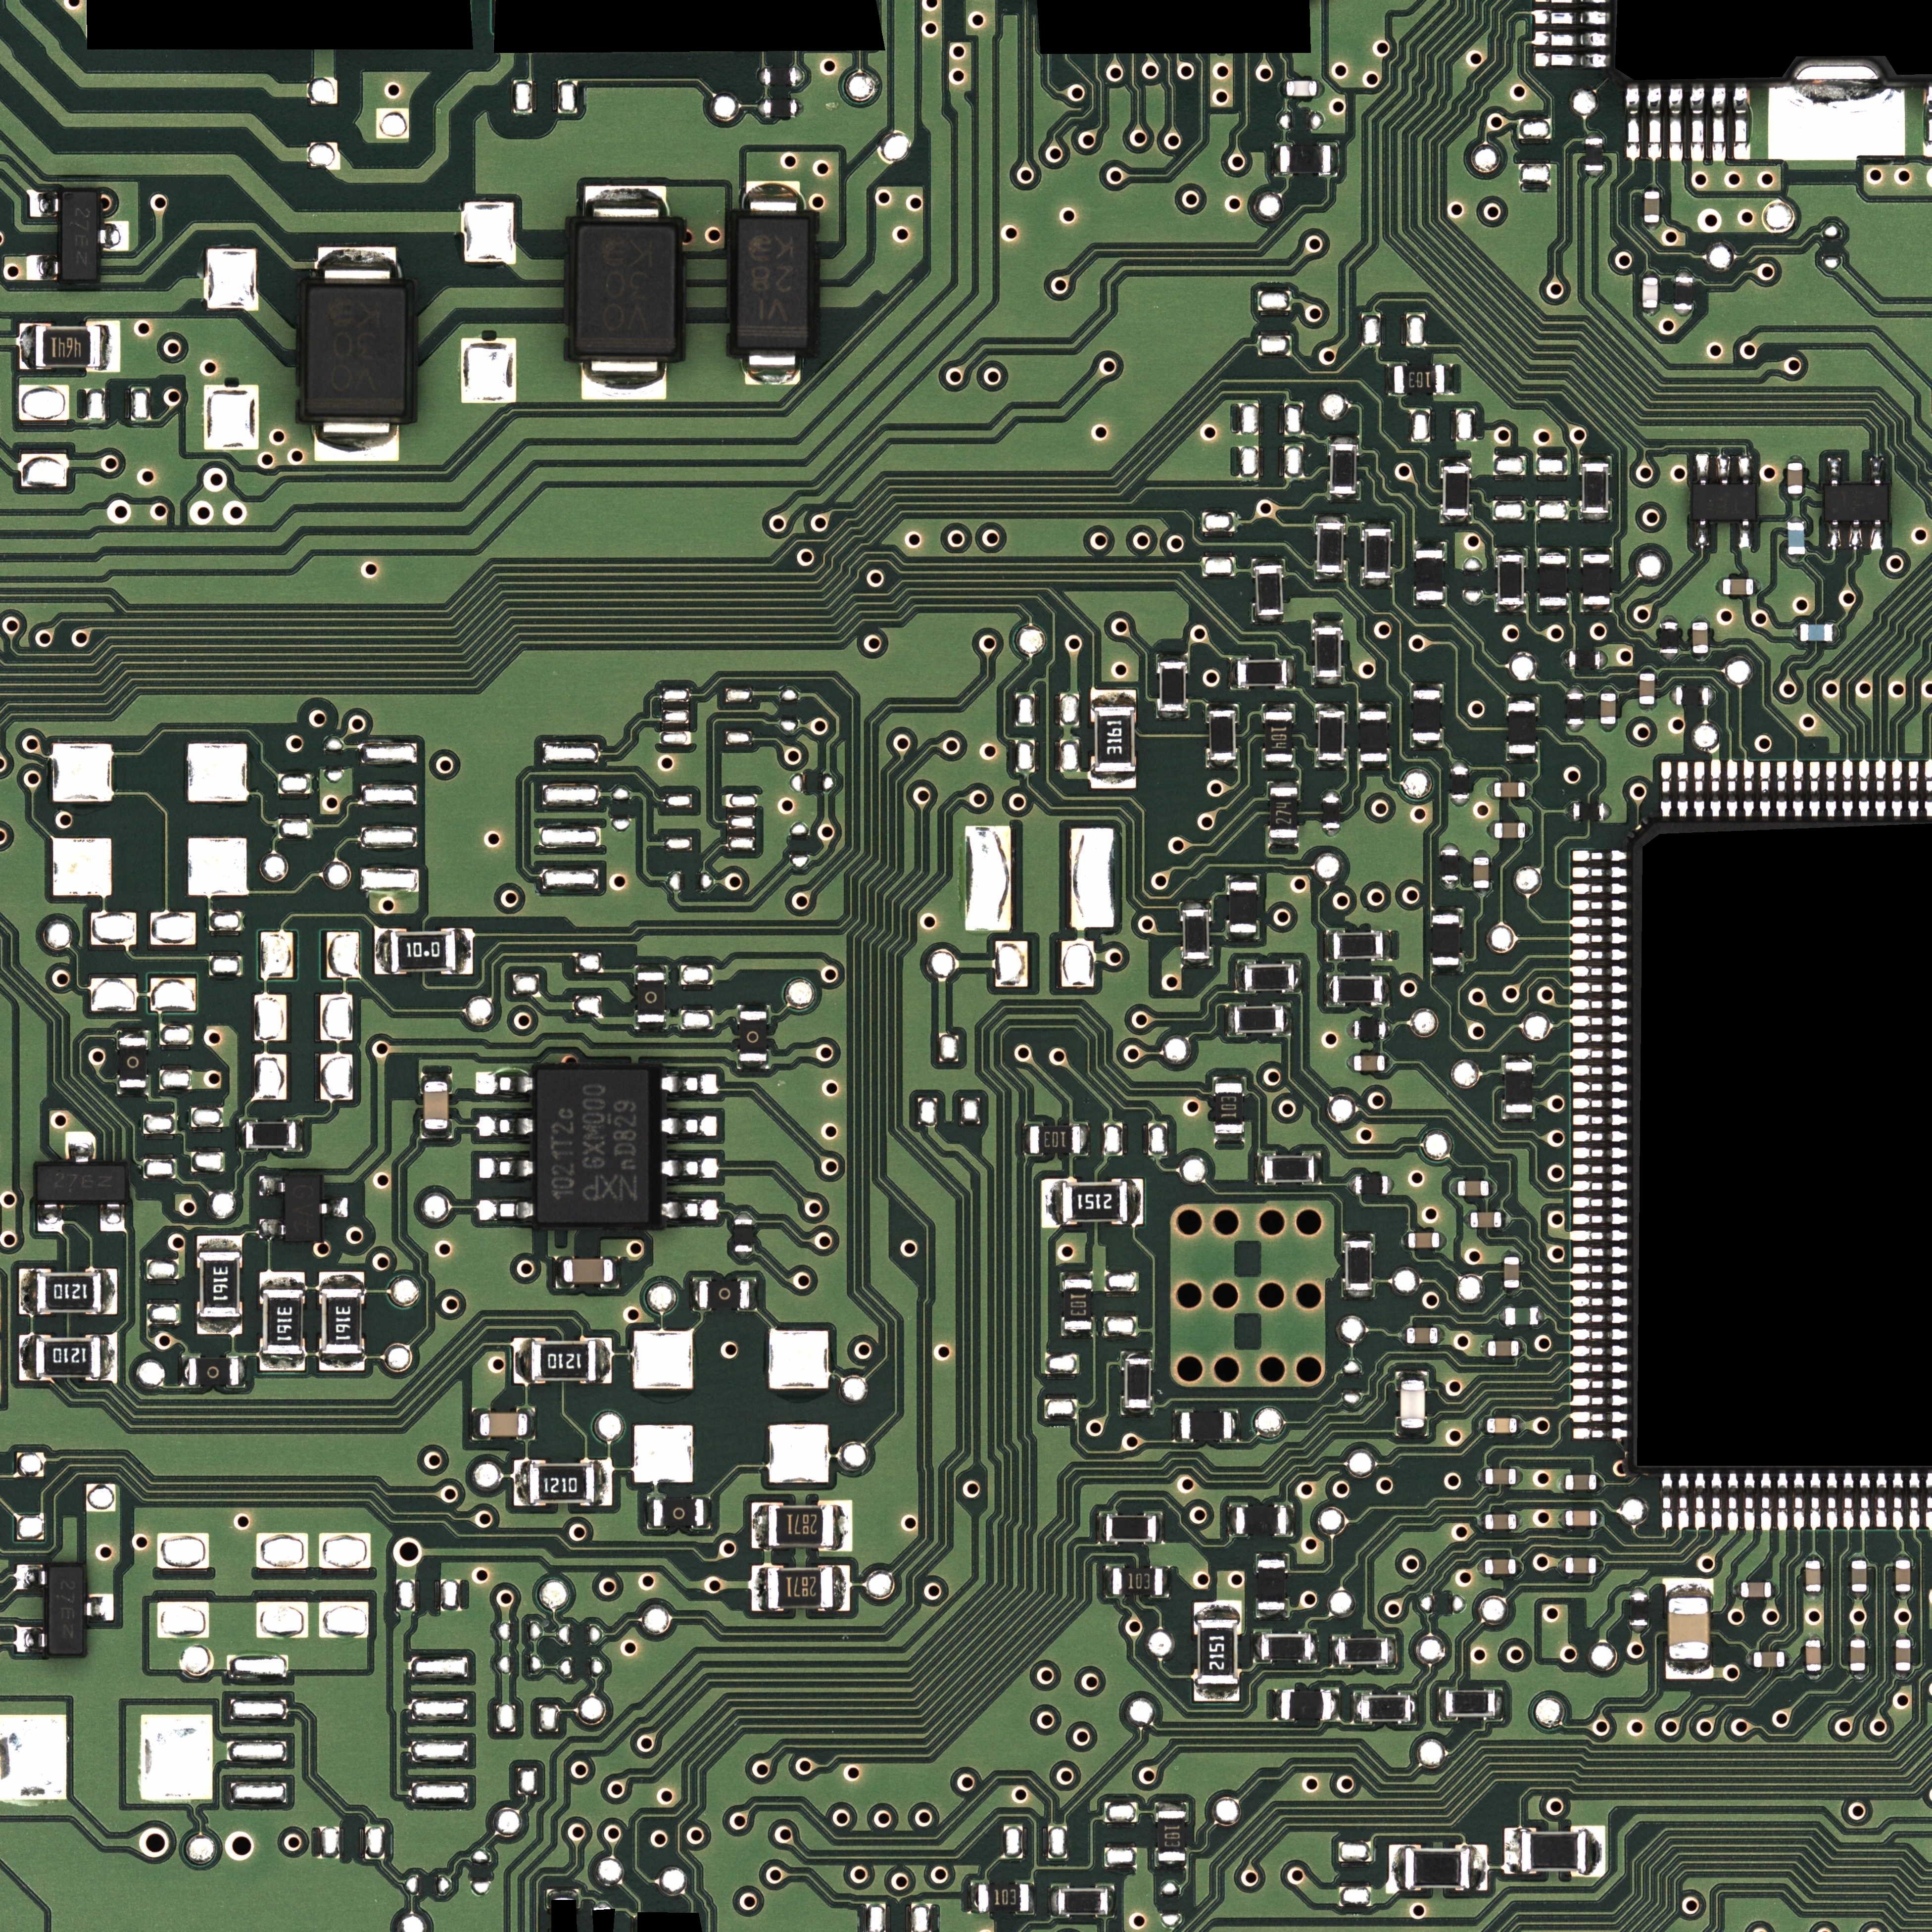Package: (533, 1065, 662, 1228), (577, 225, 678, 356), (306, 287, 405, 418), (738, 218, 810, 350), (35, 1162, 127, 1203), (46, 1566, 85, 1654), (60, 189, 97, 281), (1196, 1619, 1238, 1684), (198, 1253, 241, 1316), (322, 1288, 363, 1353), (768, 1568, 833, 1608), (768, 1506, 833, 1546), (529, 1463, 594, 1504), (391, 931, 455, 971), (37, 1272, 101, 1313), (262, 1290, 303, 1353), (1093, 708, 1134, 771), (1063, 1182, 1127, 1223), (35, 327, 101, 366), (35, 1338, 101, 1376), (531, 1341, 596, 1380), (1668, 1598, 1709, 1660), (285, 1173, 322, 1240), (1405, 1849, 1468, 1888), (1522, 1831, 1585, 1870), (1691, 485, 1757, 520), (1824, 485, 1888, 520), (699, 1279, 750, 1309), (637, 971, 665, 1023), (1507, 702, 1536, 754), (1030, 1125, 1081, 1154), (119, 1039, 147, 1088), (189, 1357, 239, 1385), (653, 1499, 702, 1527), (1415, 550, 1444, 600), (1431, 915, 1460, 964), (1539, 556, 1568, 605), (1265, 711, 1293, 761), (1230, 883, 1258, 932), (1281, 145, 1330, 173), (978, 1884, 1028, 1913), (1182, 1412, 1231, 1440), (1258, 1560, 1286, 1610), (1063, 1279, 1092, 1329), (1237, 1506, 1286, 1534), (1157, 1812, 1185, 1861), (740, 1010, 766, 1062), (1506, 1062, 1532, 1113), (1582, 556, 1610, 603), (246, 1122, 295, 1148), (1334, 932, 1384, 959), (1315, 628, 1341, 678), (1582, 464, 1608, 513), (1256, 566, 1283, 616), (1330, 444, 1357, 494), (1414, 690, 1440, 740), (1270, 787, 1297, 837), (1394, 366, 1444, 393), (1208, 709, 1235, 759), (1159, 662, 1185, 711), (1361, 711, 1387, 761), (1364, 529, 1391, 579), (1113, 1568, 1162, 1594), (1265, 1155, 1315, 1182), (1332, 977, 1382, 1003), (1281, 1691, 1330, 1718), (1215, 1083, 1242, 1132), (1246, 964, 1293, 991), (1339, 1638, 1387, 1665), (1362, 1695, 1410, 1721), (1499, 556, 1523, 605), (1318, 711, 1343, 761), (1318, 524, 1343, 573), (1184, 909, 1208, 959), (1106, 1516, 1155, 1541), (1445, 1691, 1495, 1716), (1058, 1890, 1108, 1914), (1346, 1240, 1371, 1290), (564, 1258, 612, 1283), (479, 1412, 527, 1437), (1238, 662, 1286, 686), (1444, 467, 1468, 515), (1125, 1359, 1150, 1407), (1261, 1635, 1309, 1660), (1235, 1007, 1283, 1031), (425, 1081, 448, 1129), (1401, 1380, 1424, 1428), (734, 1219, 754, 1253), (1799, 623, 1833, 642), (1355, 1175, 1387, 1194), (1675, 686, 1709, 704), (1660, 623, 1679, 653), (764, 99, 796, 117), (764, 67, 796, 85), (1585, 138, 1603, 170), (1322, 796, 1339, 828), (1675, 278, 1693, 310), (1506, 1307, 1537, 1325), (1353, 1021, 1385, 1039), (1789, 522, 1805, 556), (1569, 651, 1599, 669), (1451, 768, 1468, 798), (1408, 1231, 1438, 1249), (1644, 191, 1660, 223), (1442, 849, 1458, 881), (1753, 1651, 1785, 1667), (1407, 1327, 1438, 1343), (1484, 1514, 1516, 1530), (1484, 1559, 1516, 1575), (1458, 1180, 1490, 1196), (1470, 1212, 1502, 1228), (1504, 1256, 1520, 1288), (1895, 1560, 1911, 1592), (1353, 1054, 1385, 1070), (1631, 1594, 1647, 1626), (1573, 803, 1605, 819), (1495, 782, 1525, 798), (1787, 464, 1803, 494), (1691, 623, 1707, 653), (1495, 823, 1525, 839), (1723, 579, 1753, 594), (1474, 858, 1490, 888), (1568, 694, 1583, 724), (1642, 278, 1658, 308), (1486, 1468, 1516, 1484), (1566, 1557, 1596, 1573), (1566, 1511, 1596, 1527), (1741, 1582, 1771, 1598), (1488, 1341, 1518, 1357), (1895, 1640, 1911, 1670), (1486, 1417, 1516, 1433), (1852, 1560, 1867, 1592), (1806, 1560, 1821, 1592), (1806, 1640, 1821, 1672), (1640, 674, 1654, 704), (1286, 81, 1316, 96), (1601, 694, 1615, 724), (1566, 1476, 1596, 1490), (1851, 1640, 1865, 1670)
Solder: (1769, 85, 1905, 161), (582, 354, 667, 400), (315, 418, 398, 462), (318, 246, 396, 287), (586, 186, 667, 225), (745, 180, 801, 216), (745, 350, 801, 384), (662, 1155, 718, 1178), (662, 1198, 718, 1221), (476, 1072, 533, 1095), (478, 1198, 534, 1221), (662, 1072, 717, 1095), (662, 1115, 717, 1138), (478, 1115, 533, 1138), (479, 1155, 534, 1178), (1668, 85, 1684, 161), (1690, 85, 1706, 161), (1626, 83, 1642, 157), (1647, 83, 1663, 157), (1734, 85, 1750, 159), (1713, 85, 1727, 161), (1534, 11, 1610, 25), (1534, 32, 1610, 46), (1534, 53, 1610, 67), (101, 320, 120, 372), (1042, 1178, 1062, 1228), (1665, 1578, 1714, 1598), (1665, 1660, 1714, 1679), (65, 1131, 96, 1162), (835, 1500, 853, 1552), (1587, 1826, 1605, 1877), (99, 221, 129, 251), (27, 255, 60, 281), (19, 1269, 37, 1315), (513, 1338, 531, 1384), (594, 1460, 612, 1506), (833, 1566, 851, 1612), (1090, 771, 1136, 789), (1194, 1684, 1240, 1702), (1470, 1845, 1488, 1891), (28, 191, 58, 218), (16, 1626, 46, 1652), (16, 1564, 46, 1591), (101, 1334, 117, 1382), (1194, 1603, 1242, 1619), (1389, 1845, 1405, 1893), (1504, 1828, 1520, 1875), (85, 1594, 113, 1621), (19, 324, 35, 370), (456, 929, 472, 975), (318, 1272, 364, 1288), (196, 1318, 242, 1334), (196, 1235, 242, 1251), (19, 1334, 35, 1380), (318, 1355, 364, 1371), (260, 1355, 306, 1371), (596, 1338, 612, 1384), (750, 1566, 766, 1612), (513, 1460, 529, 1506), (1127, 1178, 1143, 1224), (260, 1272, 304, 1288), (752, 1504, 768, 1548), (1092, 690, 1136, 706), (37, 1203, 62, 1231), (101, 1203, 126, 1231), (1573, 849, 1629, 862), (1808, 761, 1821, 817), (1573, 883, 1629, 895), (1571, 932, 1628, 945), (1571, 966, 1628, 978), (1571, 1065, 1628, 1077), (1571, 1164, 1628, 1177), (1573, 1279, 1629, 1292), (1571, 1428, 1628, 1440), (1571, 1329, 1628, 1341), (1573, 1081, 1628, 1093), (1573, 1345, 1628, 1357), (1573, 1311, 1628, 1323), (1893, 1474, 1905, 1529), (375, 929, 389, 975), (103, 1269, 117, 1315), (1571, 1231, 1629, 1242), (1571, 1362, 1629, 1373), (1661, 761, 1672, 817), (1677, 761, 1688, 817), (1695, 761, 1706, 817), (1711, 761, 1721, 817), (1727, 761, 1737, 817), (1743, 761, 1753, 817), (1760, 761, 1771, 817), (1776, 761, 1787, 817), (1794, 761, 1805, 817), (1826, 761, 1836, 817), (1842, 761, 1852, 817), (1859, 761, 1870, 817), (1875, 761, 1886, 817), (1891, 761, 1902, 817), (1907, 761, 1918, 817), (1573, 982, 1629, 993), (1573, 1016, 1629, 1026), (1573, 1033, 1629, 1044), (1571, 1099, 1628, 1109), (1573, 1180, 1629, 1191), (1571, 1132, 1628, 1143), (1573, 1198, 1629, 1208), (1573, 1214, 1629, 1224), (1573, 1247, 1629, 1258), (1571, 1378, 1628, 1389), (1571, 1396, 1628, 1407), (1571, 1412, 1628, 1422), (1661, 1472, 1672, 1529), (1677, 1472, 1688, 1529), (1695, 1472, 1706, 1529), (1711, 1472, 1721, 1529), (1729, 1472, 1739, 1529), (1762, 1472, 1773, 1529), (1794, 1472, 1805, 1529), (1828, 1472, 1838, 1529), (1877, 1474, 1888, 1530), (1909, 1474, 1920, 1530), (1573, 867, 1628, 878), (1573, 901, 1628, 911), (1573, 916, 1628, 927), (1573, 950, 1628, 961), (1573, 1000, 1628, 1010), (1573, 1049, 1628, 1060), (1573, 1115, 1628, 1125), (1573, 1148, 1628, 1159), (1573, 1263, 1628, 1274), (1573, 1297, 1628, 1307), (1744, 1474, 1755, 1529), (1778, 1474, 1789, 1529), (1810, 1474, 1821, 1529), (1844, 1474, 1854, 1529), (1861, 1474, 1872, 1529), (320, 1198, 347, 1217), (258, 1219, 285, 1238), (258, 1177, 285, 1196), (1716, 455, 1730, 485), (1695, 455, 1709, 485), (1870, 520, 1884, 550), (1828, 456, 1842, 485), (1870, 456, 1884, 485), (1737, 520, 1752, 548), (1849, 520, 1863, 548), (1695, 520, 1709, 547), (968, 1881, 978, 1914), (1739, 456, 1752, 485), (1828, 520, 1840, 548), (421, 1129, 453, 1139), (1224, 1003, 1235, 1035), (1104, 1564, 1113, 1598), (1430, 964, 1463, 973), (547, 1890, 580, 1898), (471, 1408, 479, 1440), (527, 1408, 536, 1440), (1385, 363, 1394, 395), (1330, 143, 1339, 175), (1286, 656, 1295, 688), (1263, 702, 1295, 711), (1235, 961, 1244, 993), (1382, 973, 1391, 1005), (1396, 1371, 1428, 1380), (1396, 1428, 1428, 1437), (1283, 1003, 1292, 1035), (1343, 1231, 1375, 1240), (1079, 1123, 1088, 1155), (1097, 1513, 1106, 1545), (1387, 1635, 1396, 1667), (1272, 1690, 1281, 1721), (1228, 1504, 1237, 1536), (1253, 1631, 1261, 1663), (1254, 1610, 1286, 1619), (1445, 363, 1454, 395), (1440, 458, 1472, 467), (1506, 754, 1537, 763), (1507, 694, 1539, 702), (1495, 1688, 1504, 1720), (1437, 1688, 1445, 1720), (117, 1088, 147, 1097), (421, 1072, 451, 1081), (738, 1060, 768, 1069), (1329, 435, 1359, 444), (1359, 761, 1389, 770), (1359, 702, 1389, 711), (1269, 837, 1299, 846), (1228, 658, 1237, 688), (1157, 653, 1187, 662), (1180, 901, 1210, 909), (1362, 520, 1392, 529), (1412, 740, 1442, 748), (1343, 1290, 1373, 1299), (1315, 1154, 1323, 1184), (1062, 1270, 1092, 1279), (1214, 1134, 1244, 1143), (1182, 959, 1212, 968), (1580, 455, 1610, 464), (1431, 906, 1461, 915), (1440, 515, 1470, 524), (1495, 547, 1525, 556), (1316, 571, 1345, 580), (1415, 541, 1444, 550), (1315, 676, 1343, 685), (1123, 1350, 1152, 1359), (1063, 1329, 1092, 1338), (1497, 603, 1525, 612), (295, 1118, 303, 1152), (1332, 1688, 1339, 1721), (1051, 1884, 1058, 1918), (1286, 1504, 1293, 1537), (1364, 579, 1391, 587), (239, 1355, 246, 1387), (556, 1256, 563, 1288), (646, 1497, 653, 1529), (1329, 494, 1361, 501), (1207, 702, 1238, 709), (1384, 929, 1391, 961), (1315, 702, 1346, 709), (1267, 780, 1299, 787), (1228, 932, 1260, 939), (1256, 1154, 1263, 1185), (1173, 1410, 1180, 1442), (1353, 1691, 1361, 1723), (1330, 1635, 1338, 1667), (1162, 1566, 1169, 1598), (1155, 1861, 1187, 1868), (1155, 1803, 1187, 1810), (1108, 1884, 1115, 1916), (1580, 605, 1612, 612), (1580, 547, 1612, 554), (1537, 605, 1569, 612), (1502, 1054, 1534, 1062), (180, 1355, 188, 1385), (239, 1120, 246, 1150), (635, 964, 665, 971), (692, 1279, 699, 1309), (1274, 145, 1281, 175), (1228, 874, 1258, 881), (1313, 619, 1343, 626), (1253, 557, 1283, 564), (1412, 683, 1442, 690), (1316, 761, 1346, 768), (1415, 600, 1445, 607), (1325, 931, 1332, 961), (1214, 1076, 1244, 1083), (1023, 1123, 1030, 1154), (1325, 975, 1332, 1005), (1231, 1410, 1238, 1440), (1256, 1552, 1286, 1559), (1410, 1693, 1417, 1723), (1157, 1513, 1164, 1543), (1311, 1631, 1318, 1661), (1580, 513, 1610, 520), (1537, 548, 1568, 556), (1504, 1113, 1534, 1120), (119, 1030, 147, 1037), (740, 1003, 768, 1010), (637, 1023, 665, 1030), (1208, 761, 1237, 768), (1254, 616, 1283, 623), (1316, 515, 1345, 522), (1159, 711, 1187, 718), (1123, 1408, 1152, 1415), (612, 1258, 619, 1284), (734, 1210, 754, 1219), (704, 1497, 709, 1529), (1295, 961, 1300, 993), (750, 1279, 755, 1309), (1263, 763, 1293, 768), (1030, 1882, 1035, 1913), (796, 99, 805, 117), (796, 67, 805, 85), (755, 67, 764, 85), (1438, 1231, 1447, 1247), (1787, 455, 1803, 464), (1486, 782, 1495, 798), (1599, 724, 1615, 732), (1474, 849, 1490, 858), (1599, 651, 1608, 667), (1792, 625, 1801, 640), (1568, 724, 1583, 732), (1603, 803, 1612, 819), (1479, 1417, 1488, 1433), (1488, 1180, 1497, 1196), (1596, 1474, 1605, 1490), (1557, 1511, 1566, 1527), (1557, 1557, 1566, 1573), (1783, 1651, 1792, 1667), (1596, 1557, 1605, 1573), (1732, 1582, 1741, 1598), (1440, 881, 1460, 888), (1346, 1019, 1353, 1039), (1451, 1178, 1458, 1198), (734, 1251, 752, 1258), (1316, 81, 1325, 96), (1323, 828, 1341, 835), (1348, 1177, 1355, 1194), (1387, 1177, 1394, 1194), (1385, 1021, 1392, 1039), (1585, 170, 1603, 177), (1674, 308, 1691, 315), (1486, 823, 1495, 837), (1668, 686, 1675, 704), (1451, 800, 1468, 807), (1709, 686, 1716, 704), (1833, 625, 1840, 642), (1537, 1307, 1545, 1325), (1502, 1210, 1509, 1228), (1851, 1670, 1865, 1679), (1557, 1476, 1566, 1490), (1477, 1514, 1486, 1529), (1596, 1511, 1605, 1525), (1629, 1587, 1647, 1594), (1629, 1626, 1647, 1633), (757, 99, 764, 115), (1385, 1054, 1392, 1070), (1346, 1054, 1353, 1070), (1675, 271, 1691, 278), (1691, 616, 1707, 623), (1716, 579, 1723, 594), (1753, 579, 1760, 594), (1787, 494, 1803, 501), (1661, 616, 1677, 623), (1451, 761, 1467, 768), (1661, 655, 1677, 662), (1474, 888, 1490, 895), (1789, 554, 1805, 561), (1442, 842, 1458, 849), (1562, 651, 1569, 667), (1566, 803, 1573, 819), (1438, 1327, 1445, 1343), (1499, 1309, 1506, 1325), (1463, 1212, 1470, 1228), (1516, 1417, 1523, 1433), (1771, 1582, 1778, 1598), (1895, 1633, 1911, 1640), (1516, 1468, 1523, 1484), (1895, 1592, 1911, 1599), (1479, 1468, 1486, 1484), (1516, 1559, 1523, 1575), (1895, 1670, 1911, 1677), (1851, 1592, 1867, 1599), (1477, 1559, 1484, 1575), (1746, 1651, 1753, 1667), (1805, 1592, 1821, 1599), (1279, 81, 1286, 96), (1644, 271, 1658, 278), (1525, 823, 1532, 837), (1693, 653, 1707, 660), (1601, 686, 1615, 694), (1525, 782, 1532, 796), (1640, 667, 1654, 674), (1640, 704, 1654, 711), (1504, 1249, 1518, 1256), (1481, 1341, 1488, 1355), (1518, 1341, 1525, 1355), (1504, 1288, 1518, 1295), (1516, 1514, 1523, 1529), (1851, 1633, 1865, 1640), (1806, 1670, 1821, 1677), (1806, 1633, 1821, 1640), (1585, 133, 1603, 138), (1787, 517, 1805, 522), (593, 1902, 610, 1907), (1323, 791, 1339, 796), (1644, 223, 1660, 228), (1644, 186, 1660, 191), (1568, 688, 1583, 694), (1895, 1555, 1911, 1560), (1805, 1555, 1821, 1560), (1851, 1555, 1867, 1560), (1403, 1233, 1408, 1247), (1401, 1329, 1407, 1343), (1644, 308, 1658, 313)
